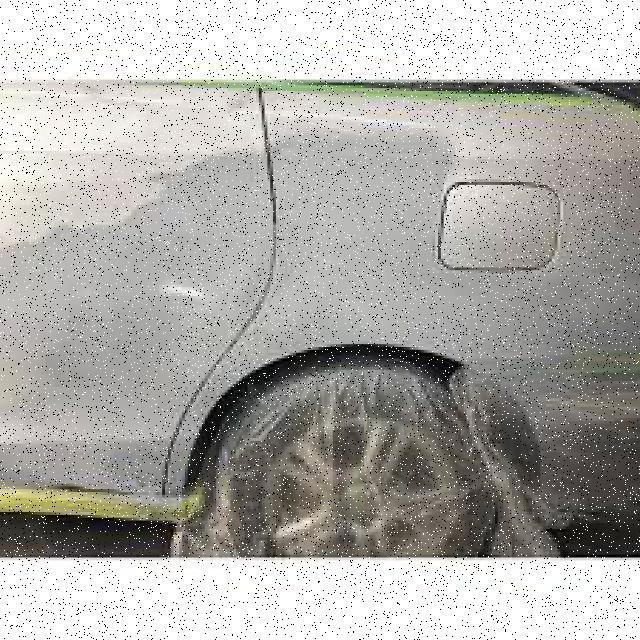quaterpanel-dent: (253, 82, 637, 515)
